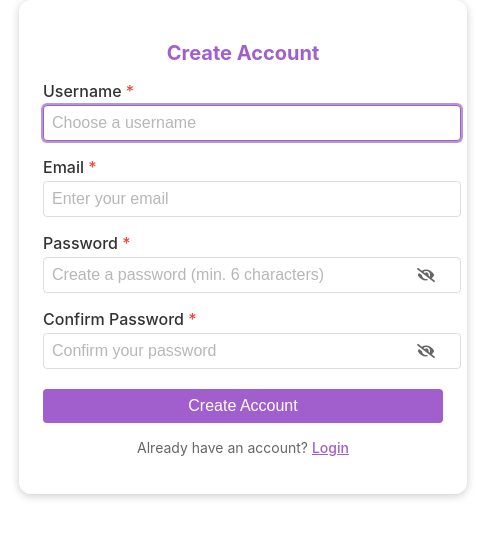
RegisterForm Component › shows validation error for empty fields
This screenshot has width=487, height=557.
// Manually fire the submit event to bypass browser validations
Click the form with test id "register-form": (243, 247) [19,0,467,494]
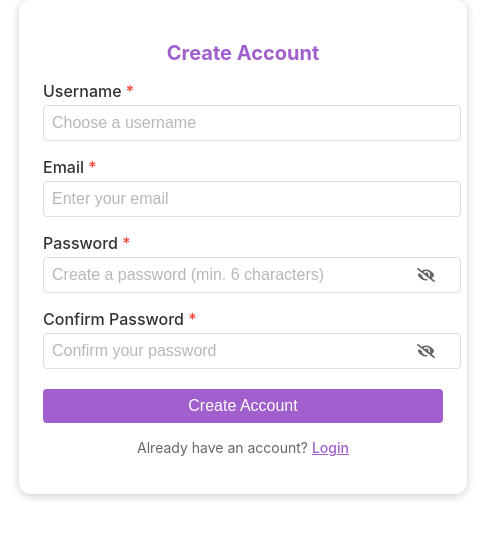
Submit the form with test id "register-form"
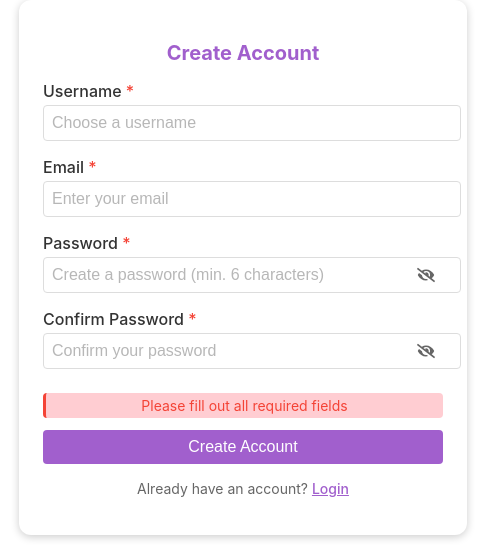
Expected: the text "Please fill out all required fields" is shown, [43,393,443,418]
